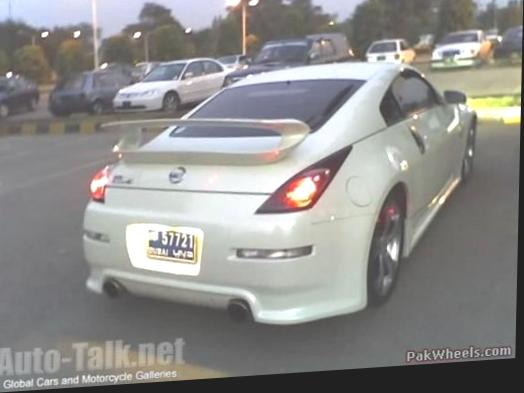License_Plate: (143, 222, 200, 268)
